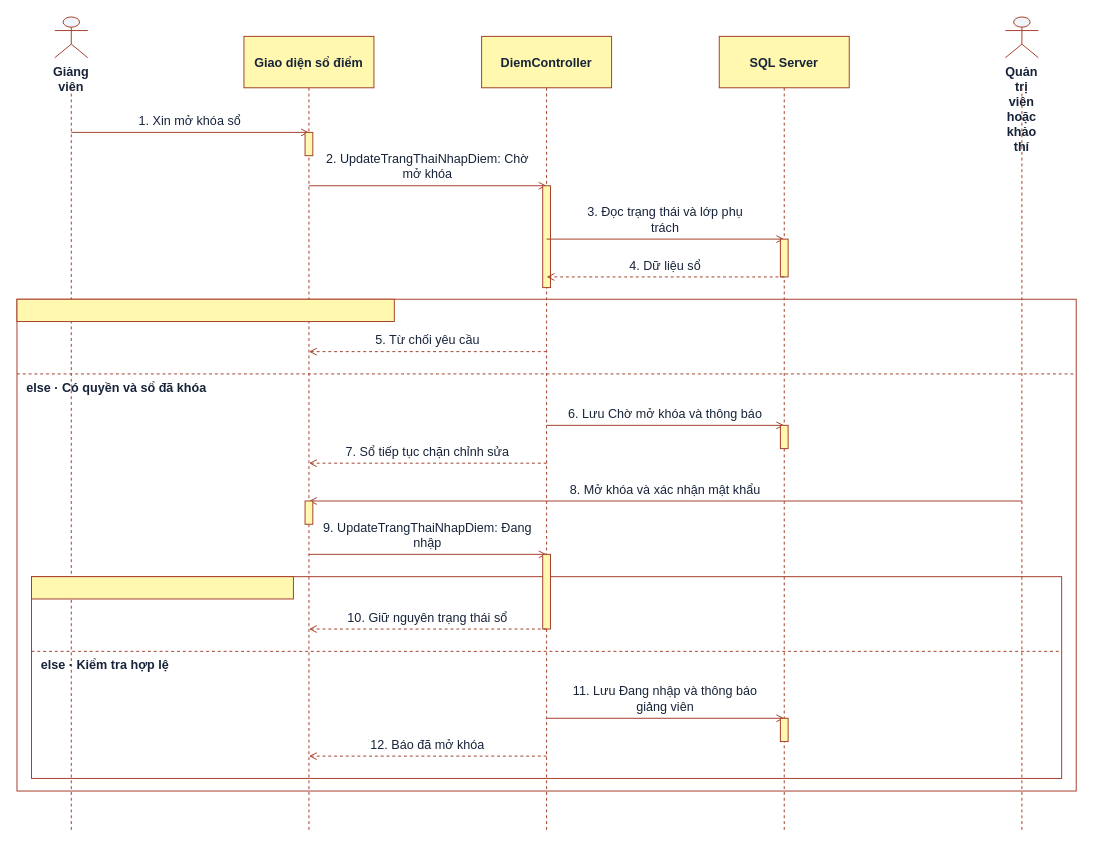
Some shapes in this 1094 by 851 pixel diagram are drawn without their labels. The centre of each missing label's shape, as x and y in pixels:
alt Không có quyền hoặc mật khẩu sai: (x=162, y=587)
alt Ngoài phạm vi hoặc chuyển trạng thái không hợp lệ: (x=205, y=310)
